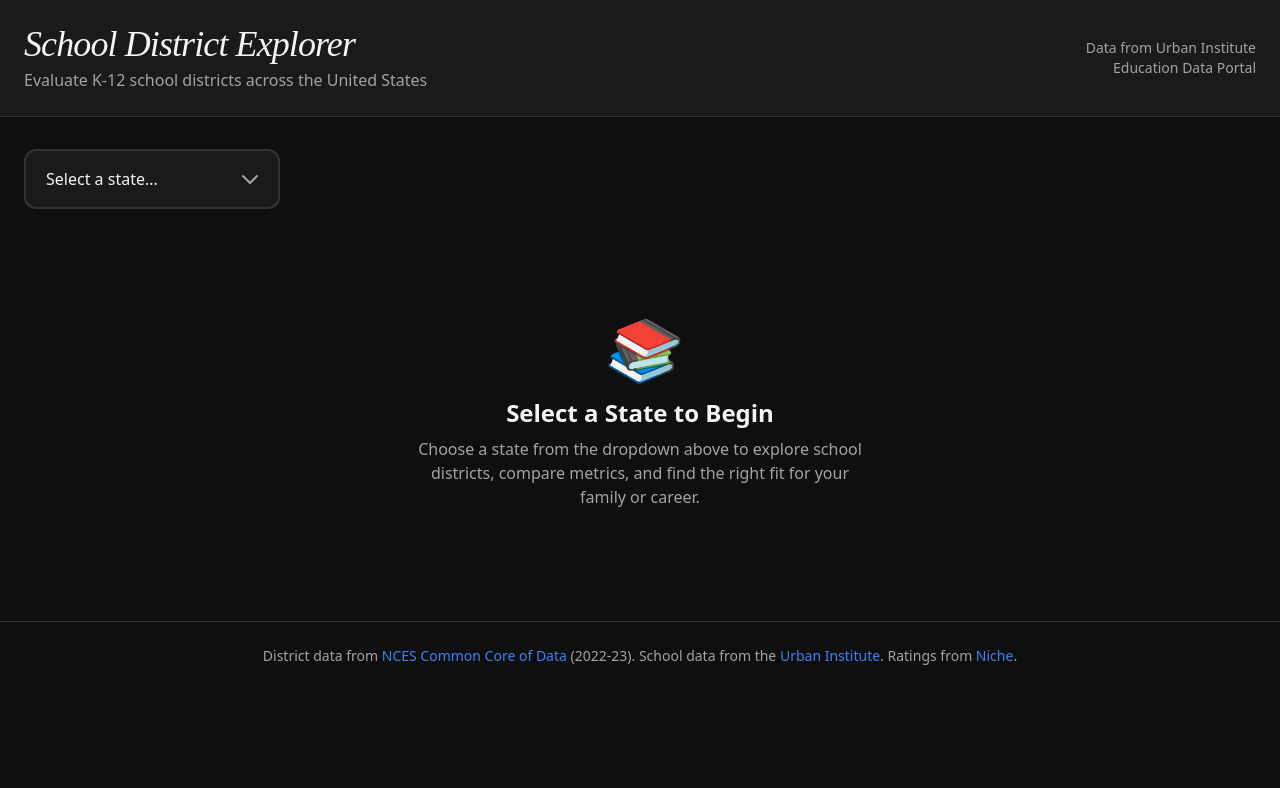
App › should go back to district list when back button clicked
The image size is (1280, 788).
Select "California" in the dropdown at [152, 179], box [24,149,280,209]
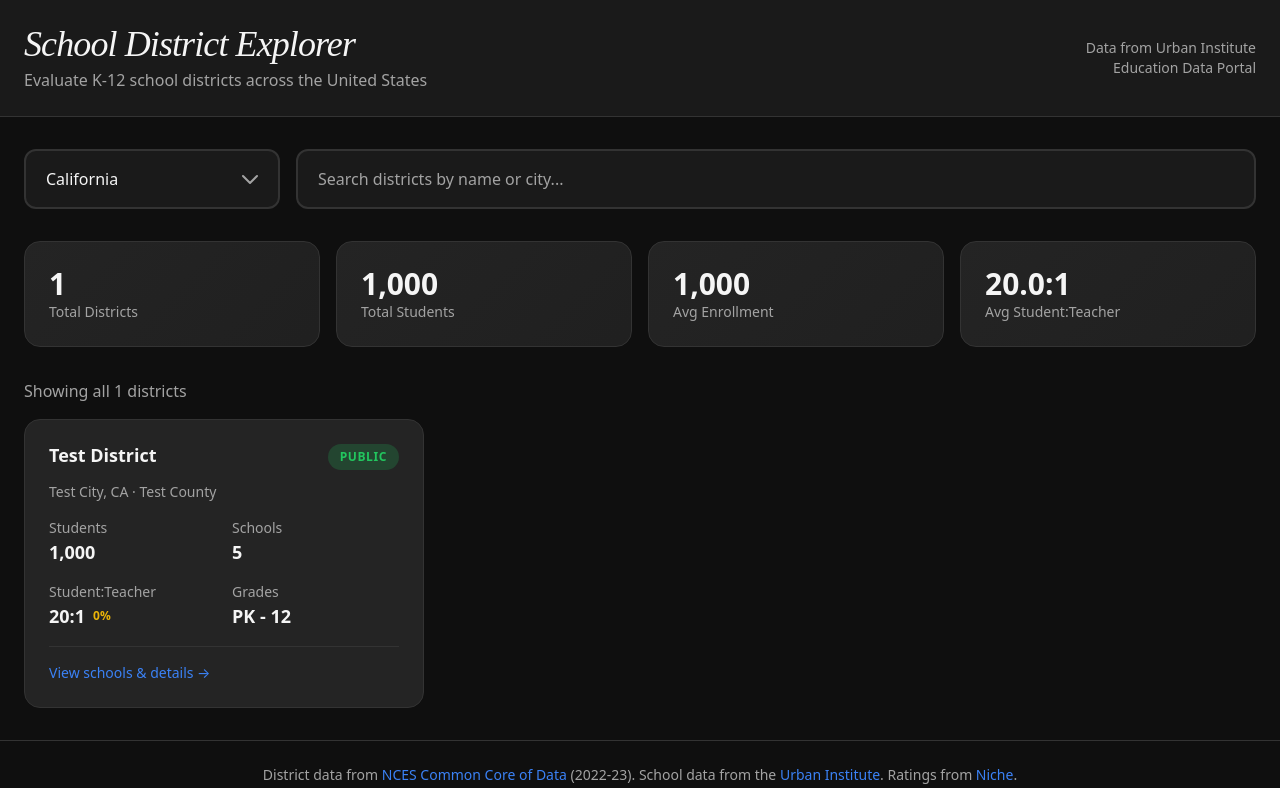
Expected: the heading "Test District" is shown
Click the heading "Test District" at [107, 455], box [49,444,164,466]
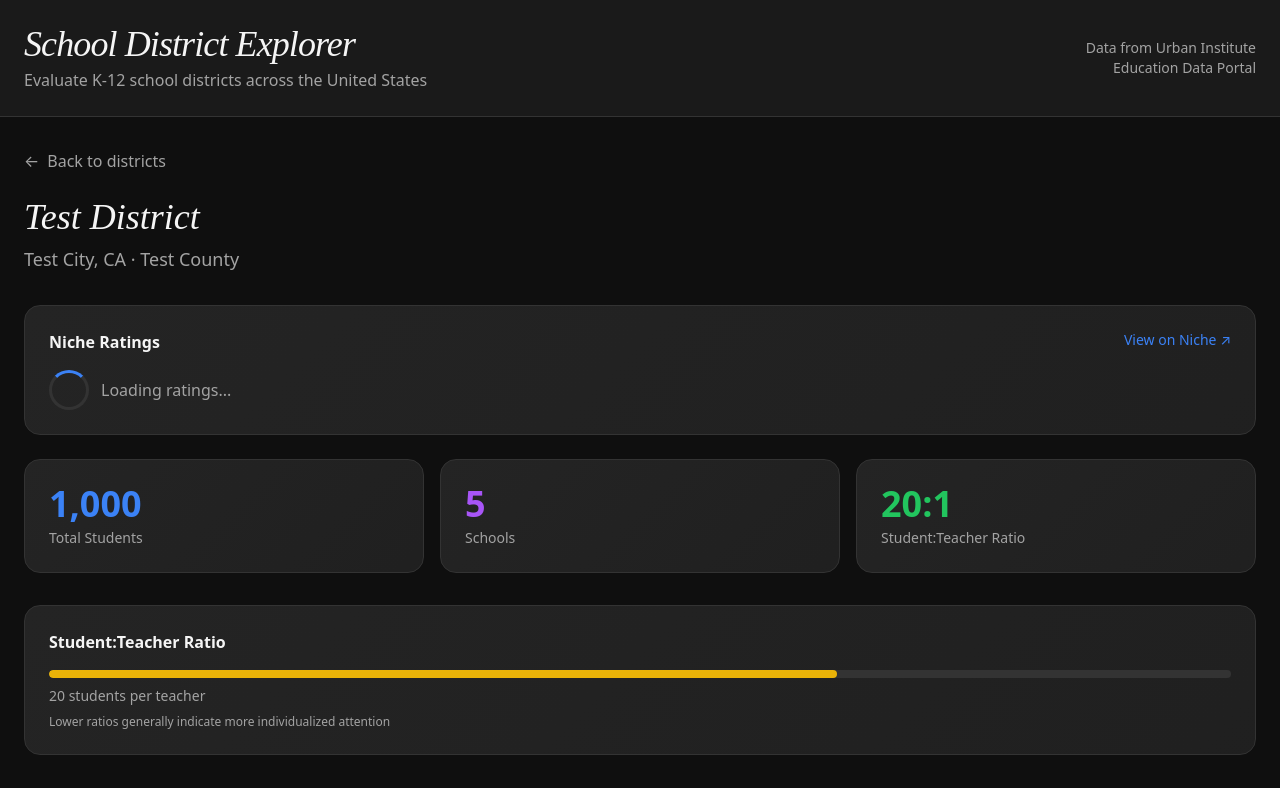
Expected: the text "Back to districts" is shown
Click the text "Back to districts" at [107, 161], box [47,149,166,173]
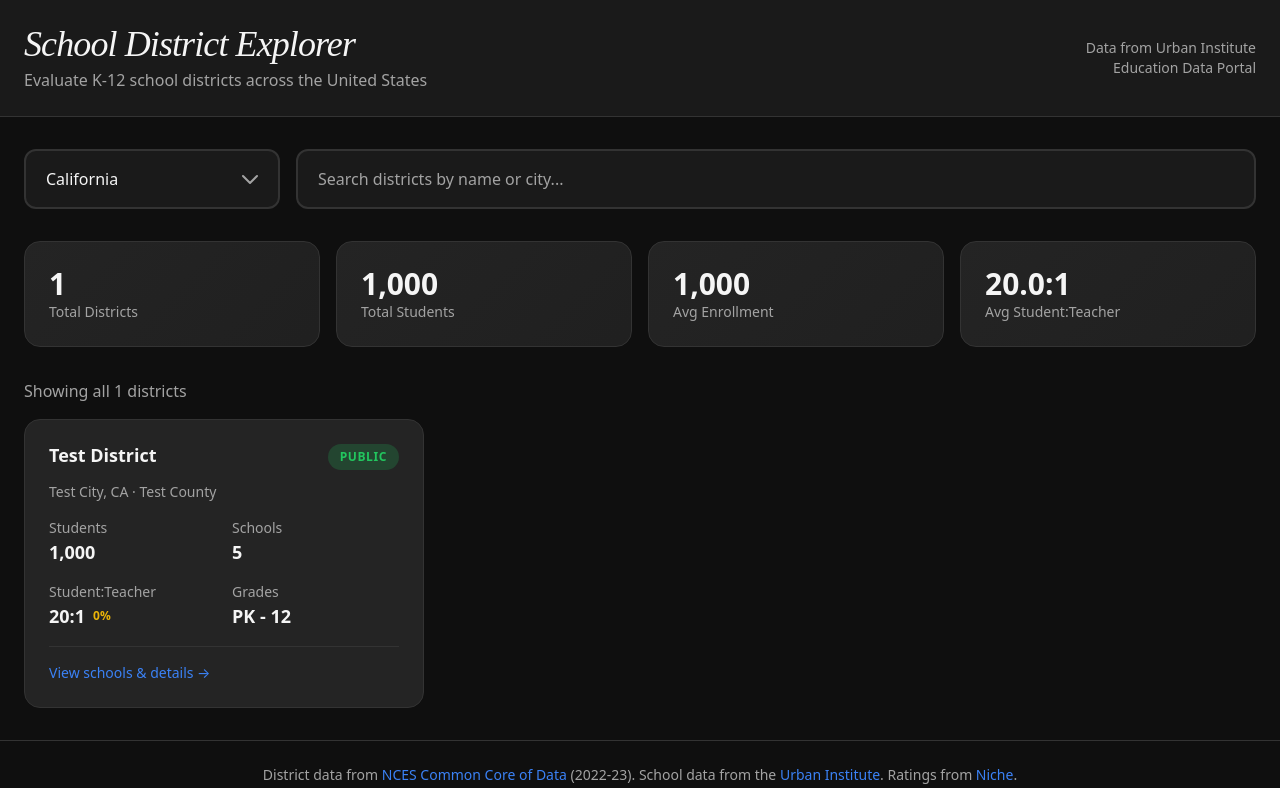
Expected: the button "Back to districts" is gone
